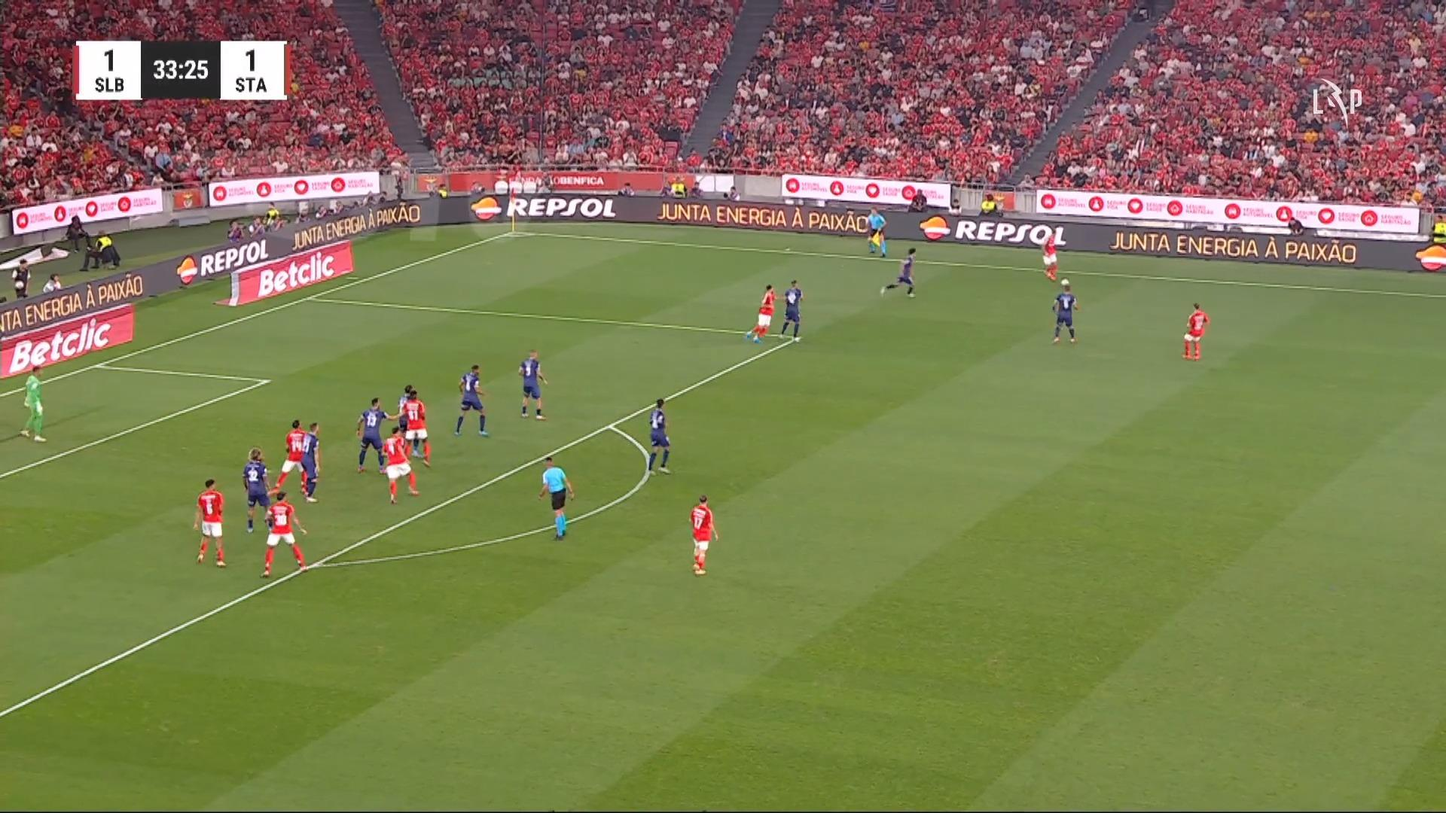ball: (1060, 278, 1069, 286)
goalkeeper: (19, 364, 47, 442)
player: (259, 490, 307, 577), (380, 425, 420, 504), (270, 419, 310, 496), (193, 478, 227, 567), (241, 446, 273, 533), (453, 364, 490, 437), (354, 396, 389, 473), (399, 385, 431, 466), (689, 494, 718, 575), (517, 349, 548, 419), (297, 421, 322, 502), (646, 397, 672, 474), (880, 246, 917, 297), (745, 283, 776, 343), (1051, 279, 1079, 343), (1182, 302, 1209, 360), (779, 279, 803, 342), (1041, 236, 1060, 281)
referee: (538, 455, 575, 540), (865, 206, 887, 257)
